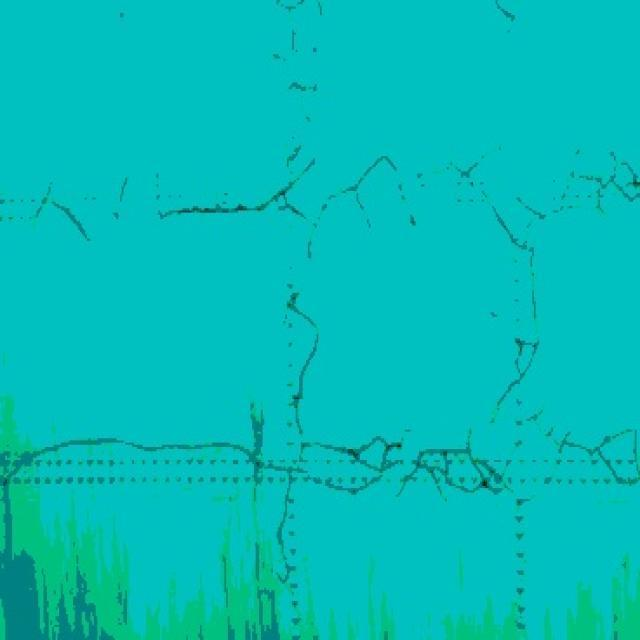crack: (11, 138, 640, 253), (6, 420, 640, 503), (259, 3, 334, 585), (490, 3, 520, 38)
